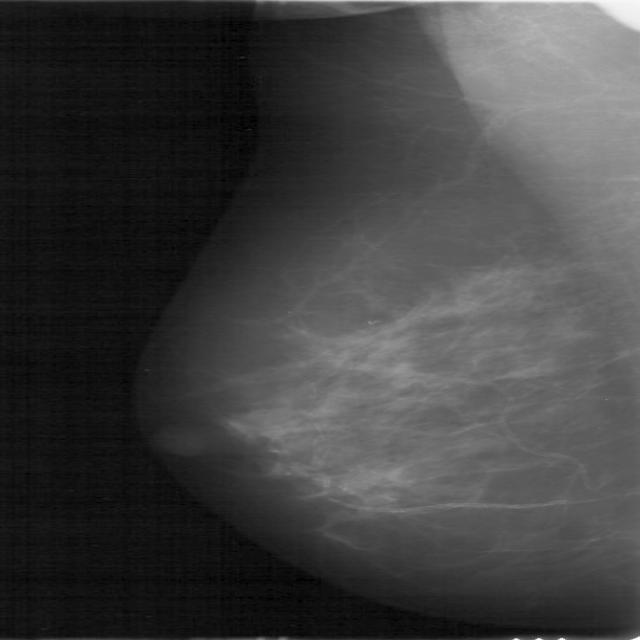tumour: (328, 470, 396, 505)
